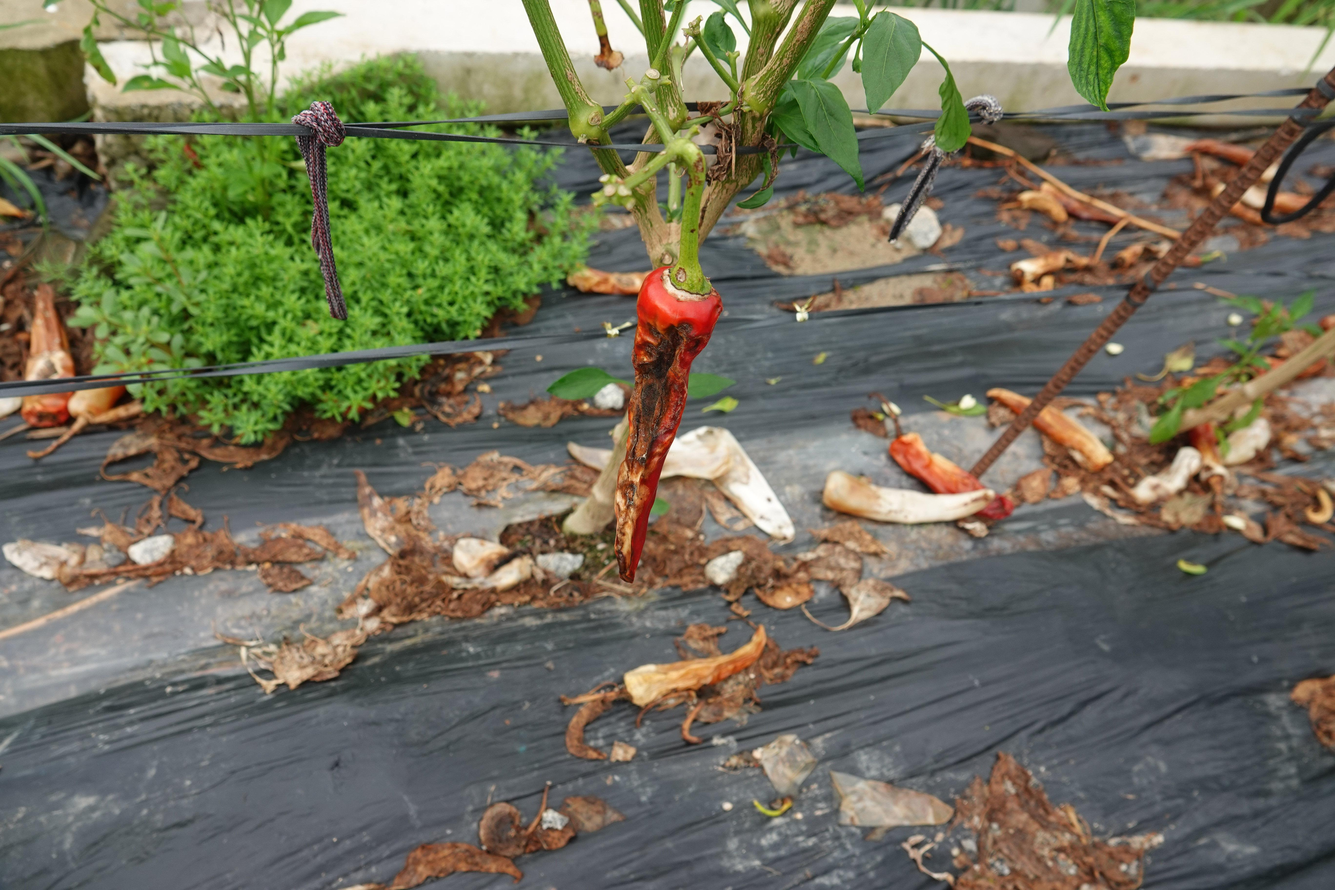Busuk Buah Antraknosa: (609, 262, 725, 585)
